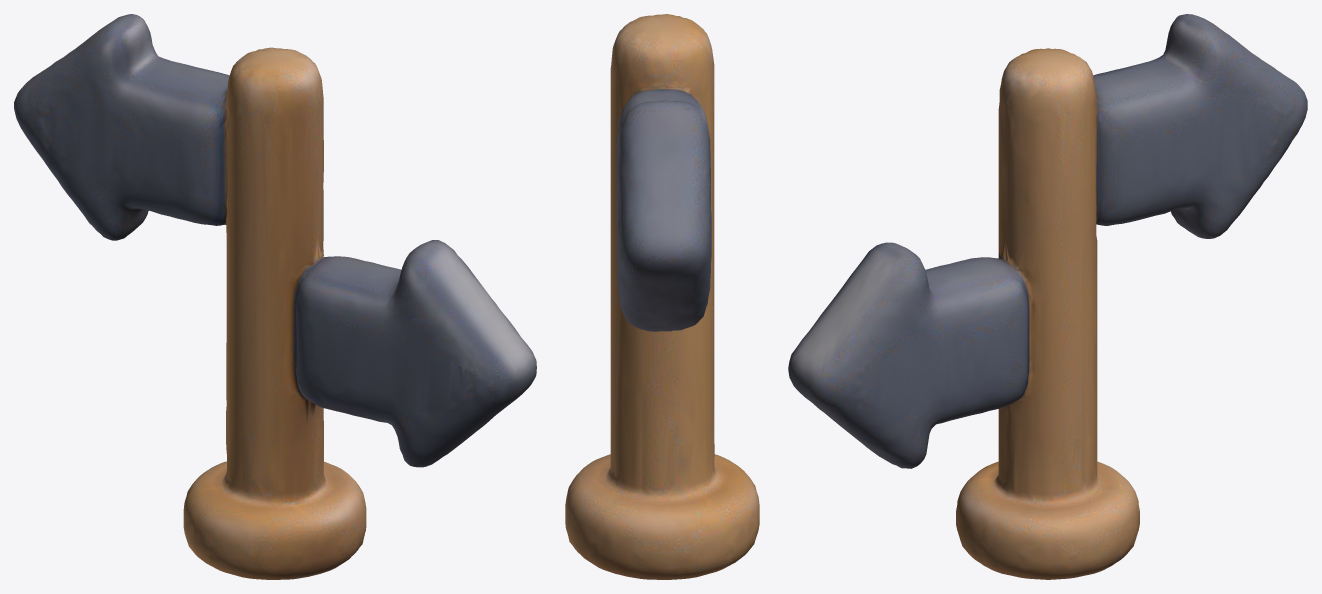
Rendered from step-1-regulatory.glb.
3 renders of one model, left to right at view 1: azimuth 30°, elevation 25°; view 2: azimuth 150°, elevation 25°; view 3: azimuth 270°, elevation 25°, orthographic. The views are drawn at different scales.
Parts seen in each view (by area): view 1: tripo_node_f7f4a67f-83ae-41e9-ba85-ab4183c0d8b8; view 2: tripo_node_f7f4a67f-83ae-41e9-ba85-ab4183c0d8b8; view 3: tripo_node_f7f4a67f-83ae-41e9-ba85-ab4183c0d8b8.
Part boxes in pixels (left/top/right/bottom): tripo_node_f7f4a67f-83ae-41e9-ba85-ab4183c0d8b8: left=14, top=14, right=536, bottom=579; tripo_node_f7f4a67f-83ae-41e9-ba85-ab4183c0d8b8: left=565, top=14, right=759, bottom=579; tripo_node_f7f4a67f-83ae-41e9-ba85-ab4183c0d8b8: left=788, top=14, right=1307, bottom=579.
Bounding box in the file's own units: 0.6135 × 0.9765 × 0.9344.
1 material, 1 textured.
